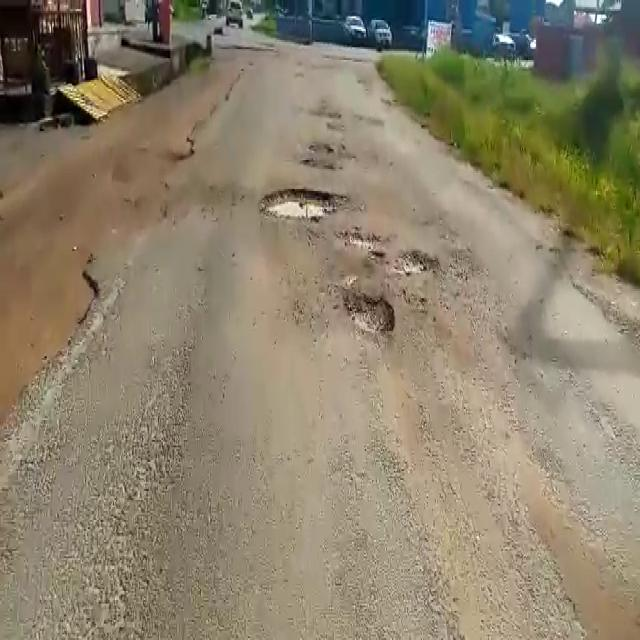Pothole: (258, 186, 352, 233), (341, 285, 397, 335), (393, 248, 441, 275), (342, 234, 382, 256)
